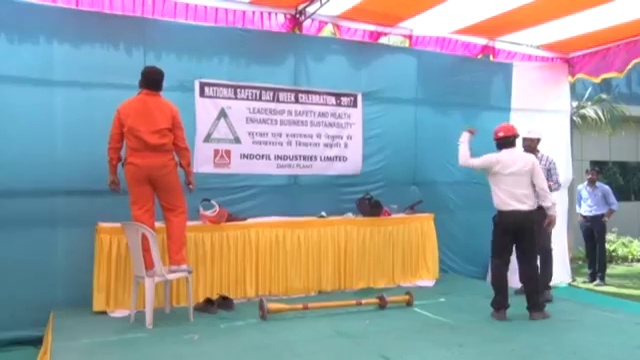helmet: (492, 120, 520, 138), (522, 123, 541, 142)
helmet_off: (136, 64, 165, 94), (582, 164, 602, 185)
helmet_on: (491, 121, 523, 153), (522, 122, 543, 160)
person: (454, 120, 552, 321), (103, 64, 196, 273), (521, 121, 560, 300), (572, 164, 618, 287)
